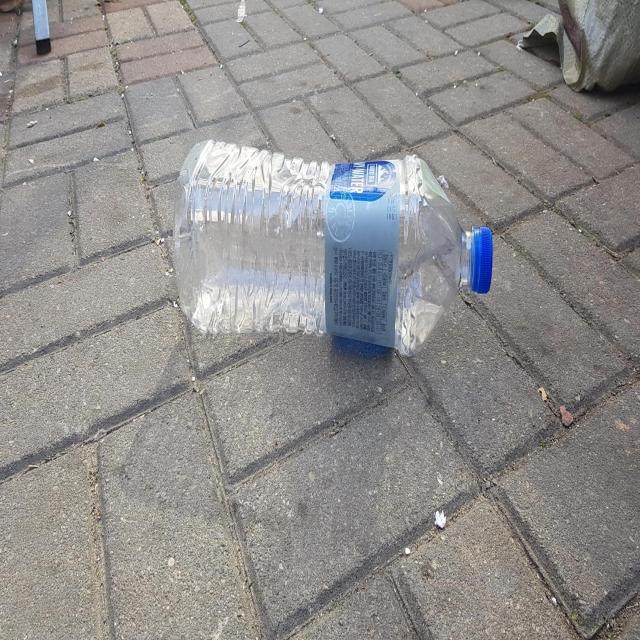plastic: (174, 139, 493, 353)
